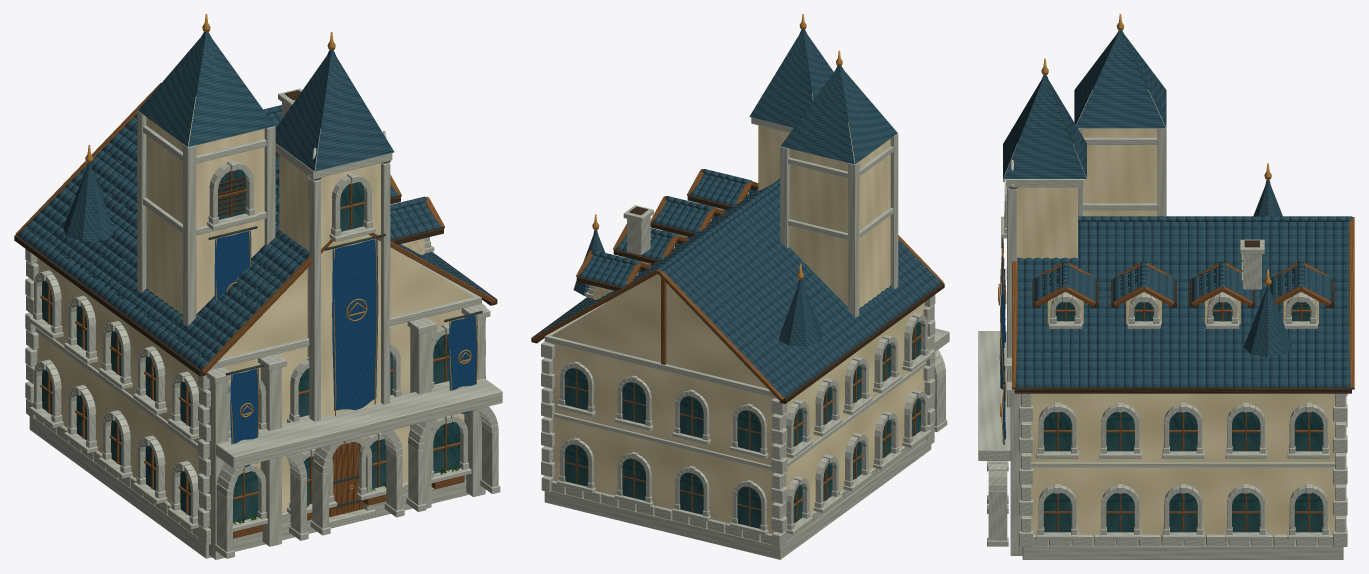
The model's file is adventurers_guild.glb.
The picture shows the model from 3 angles, left to right: view 1: azimuth 30°, elevation 25°; view 2: azimuth 150°, elevation 25°; view 3: azimuth 270°, elevation 25°; orthographic projection. The views are drawn at different scales.
Parts seen in each view (by area): view 1: adventurers_guild_Structure.002, adventurers_guild_Roof.002, adventurers_guild_Detail.002, adventurers_guild_Cloth.002, adventurers_guild_Joinery.002, adventurers_guild_Glazing.002, adventurers_guild_Metalwork.002; view 2: adventurers_guild_Structure.002, adventurers_guild_Roof.002, adventurers_guild_Detail.002, adventurers_guild_Glazing.002, adventurers_guild_Joinery.002; view 3: adventurers_guild_Roof.002, adventurers_guild_Structure.002, adventurers_guild_Detail.002, adventurers_guild_Glazing.002, adventurers_guild_Joinery.002, adventurers_guild_Metalwork.002, adventurers_guild_Cloth.002.
Part boxes in pixels (x1=…): adventurers_guild_Structure.002: x1=25, y1=88, x2=502, y2=559; adventurers_guild_Roof.002: x1=17, y1=32, x2=494, y2=369; adventurers_guild_Detail.002: x1=29, y1=160, x2=500, y2=558; adventurers_guild_Cloth.002: x1=214, y1=230, x2=477, y2=467; adventurers_guild_Joinery.002: x1=14, y1=83, x2=497, y2=538; adventurers_guild_Glazing.002: x1=42, y1=169, x2=460, y2=522; adventurers_guild_Metalwork.002: x1=85, y1=14, x2=482, y2=508; adventurers_guild_Structure.002: x1=541, y1=96, x2=949, y2=559; adventurers_guild_Roof.002: x1=534, y1=29, x2=941, y2=398; adventurers_guild_Detail.002: x1=557, y1=203, x2=947, y2=535; adventurers_guild_Glazing.002: x1=564, y1=321, x2=920, y2=528; adventurers_guild_Joinery.002: x1=531, y1=169, x2=944, y2=525; adventurers_guild_Roof.002: x1=1003, y1=30, x2=1352, y2=387; adventurers_guild_Structure.002: x1=978, y1=90, x2=1347, y2=559; adventurers_guild_Detail.002: x1=987, y1=144, x2=1346, y2=546; adventurers_guild_Glazing.002: x1=1043, y1=302, x2=1322, y2=532; adventurers_guild_Joinery.002: x1=1012, y1=217, x2=1354, y2=532; adventurers_guild_Metalwork.002: x1=998, y1=14, x2=1271, y2=444; adventurers_guild_Cloth.002: x1=1000, y1=248, x2=1005, y2=444.
Size of the model in its own units: 9.94 by 15.72 by 11.98.
4 materials, 4 textured.
